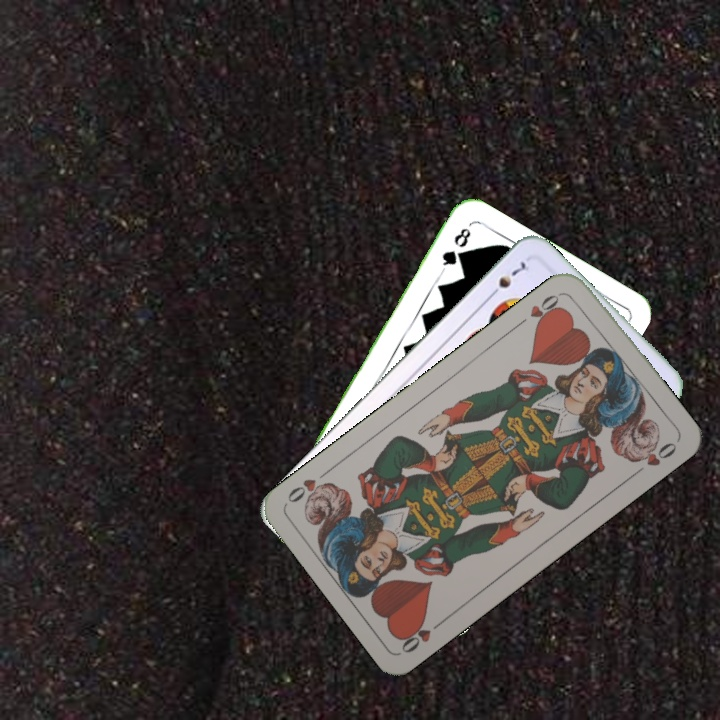G8: (437, 223, 474, 275)
HO: (395, 614, 449, 656), (514, 288, 565, 331)
S7: (484, 257, 532, 301)
